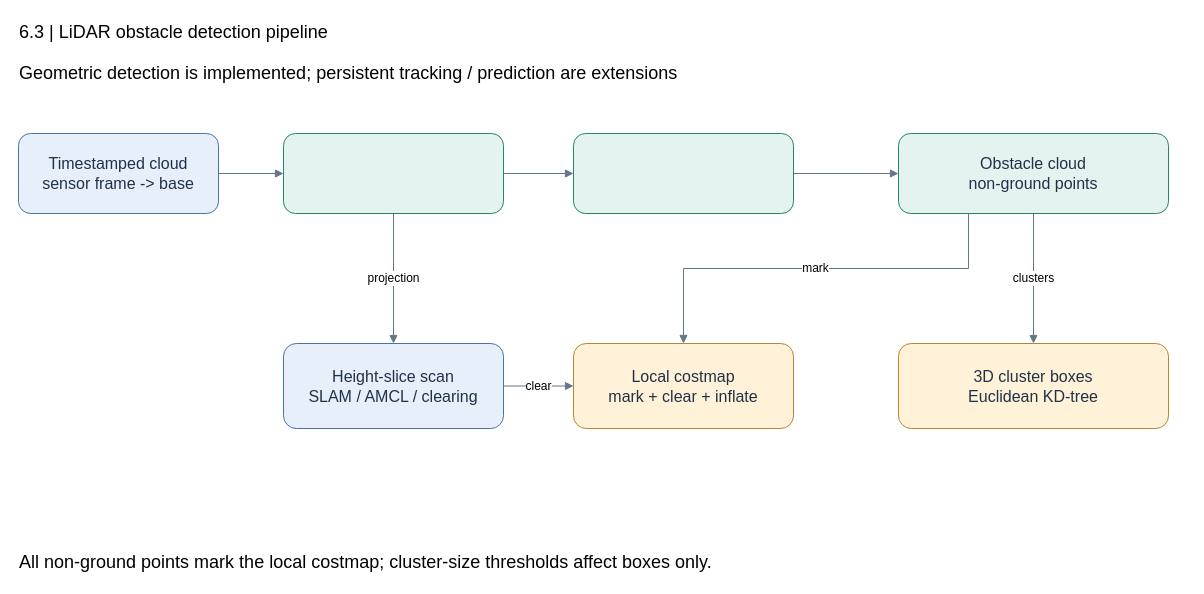
Some shapes in this 1204 by 594 pixel diagram are drawn without their labels. The box of each missing label's shape, as (x1, y1, x2, y2) in pixels:
Ground RANSAC near-horizontal plane: (572, 132, 794, 214)
ROI + voxel grid invalid / self / range: (282, 132, 504, 214)
